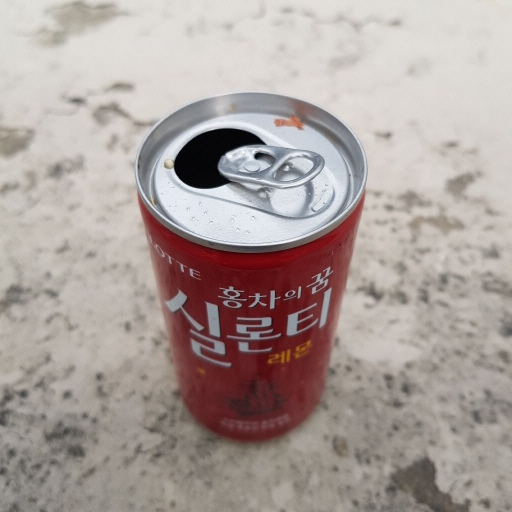Metal_0: (135, 87, 369, 443)
